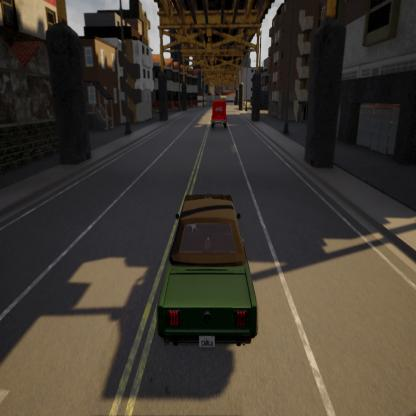Cars: (157, 193, 259, 352), (210, 102, 228, 130)
